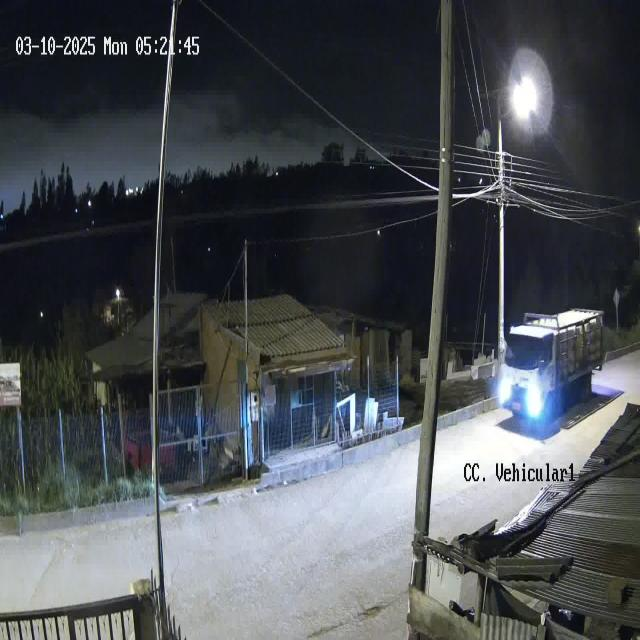TRUCK: (498, 302, 608, 430)
